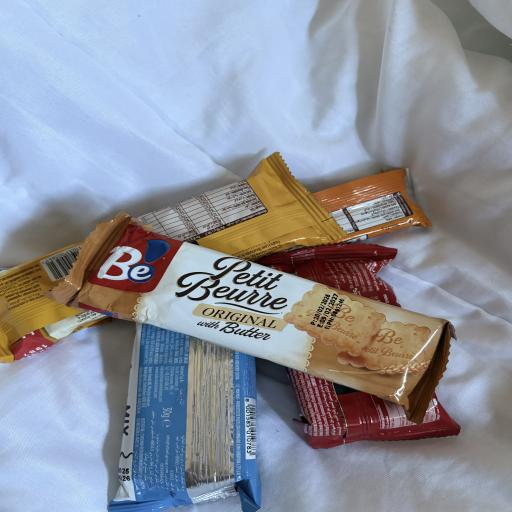petit-beurre: (61, 203, 474, 423)
